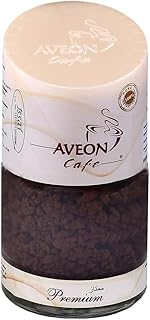Coffee: (2, 1, 148, 320)
